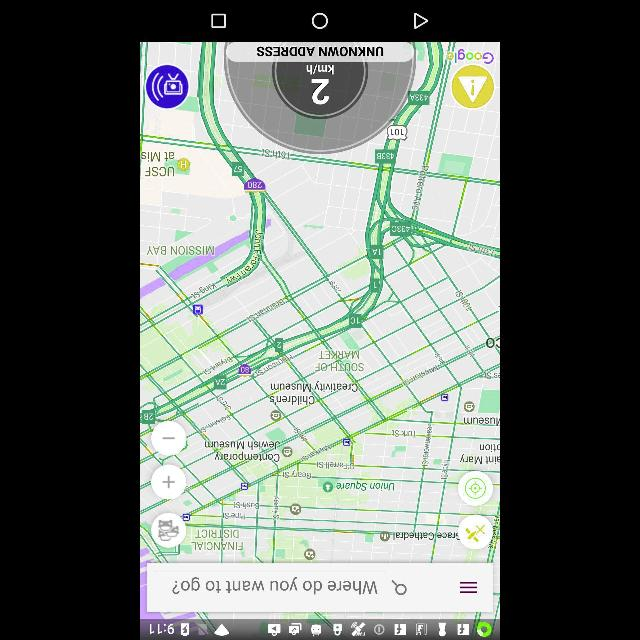icon: (390, 576, 410, 600), (458, 578, 480, 598), (414, 12, 430, 30), (312, 12, 328, 30), (211, 12, 227, 30)
map: (142, 41, 500, 619)
panel: (140, 1, 500, 41)
text: (170, 576, 380, 600)
toolbar: (148, 563, 492, 611)
uppertaskbar: (140, 619, 500, 639)
